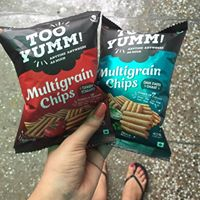plastic: (19, 11, 100, 151), (103, 18, 169, 159)
tooyumm: (19, 21, 86, 65), (107, 30, 164, 53)
wrapper: (2, 24, 133, 145), (88, 22, 188, 152)
